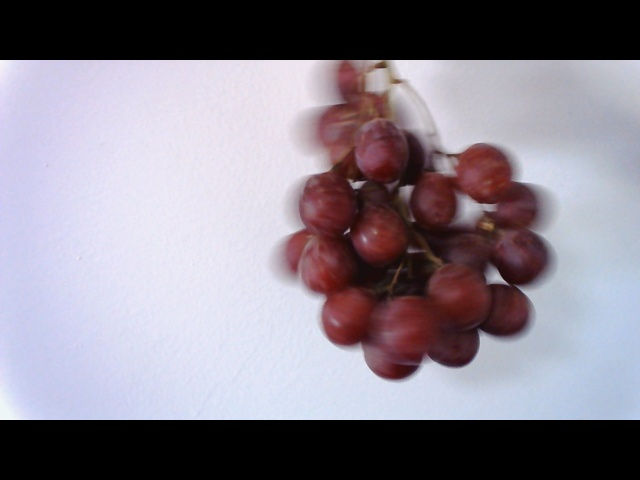grape: (284, 79, 550, 375)
